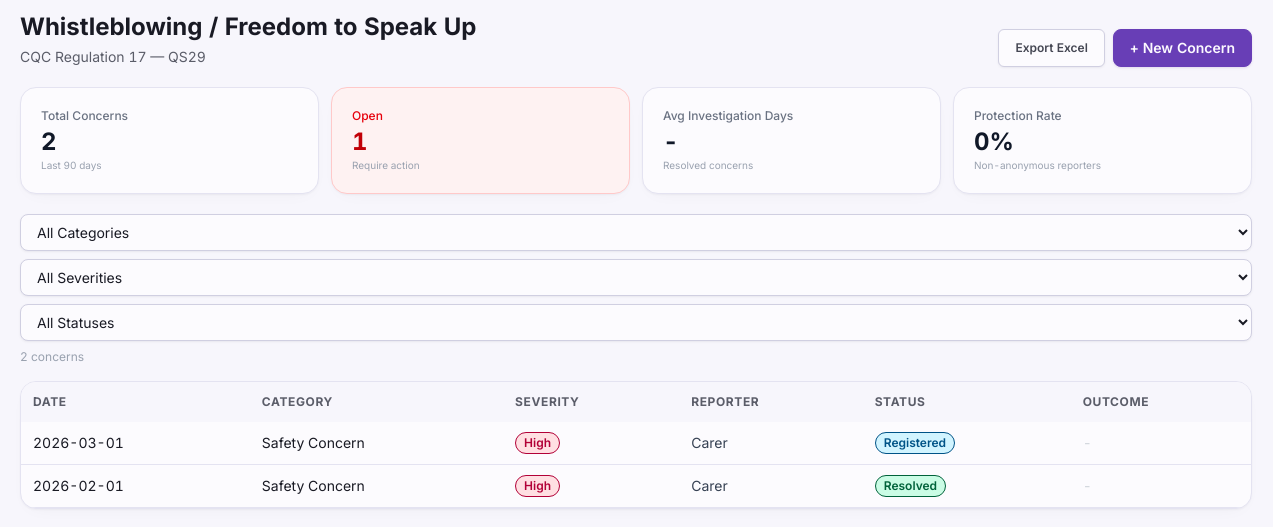
Test: WhistleblowingTracker › status filter narrows the concerns list
Expected: the text "2026-03-01" is shown, 21,422 -> 250,464
Expected: the text "2026-02-01" is shown, 21,464 -> 250,508
Select "Registered" in the dropdown named "Filter whistleblowing concerns by status". click: (636, 322)
box: 20,304 -> 1252,341
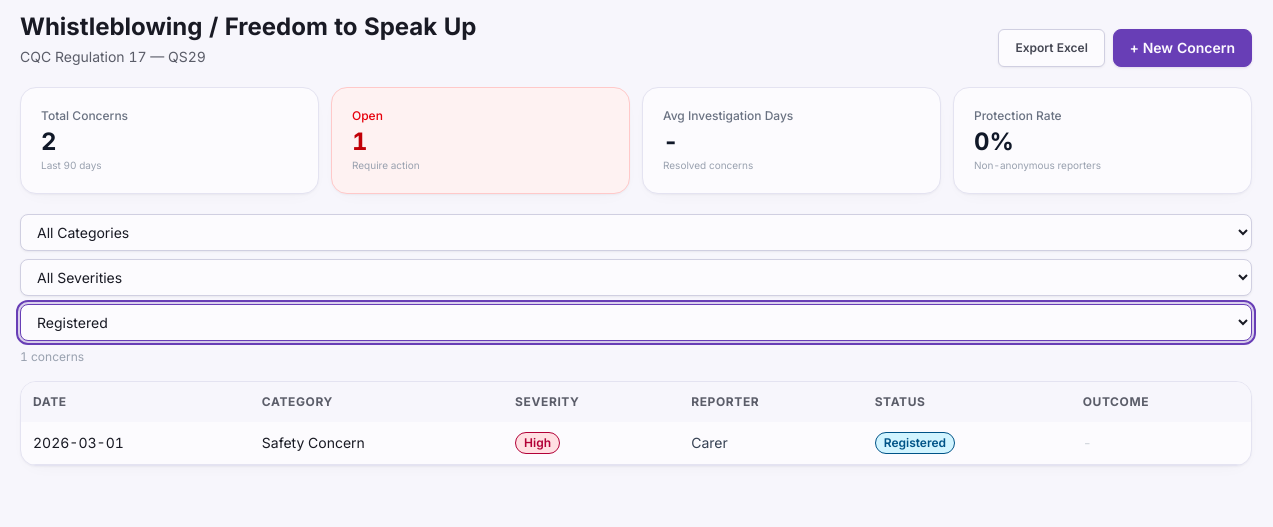
Expected: the text "2026-03-01" is shown, 21,422 -> 250,464
Result: the button "2026-02-01" is gone
